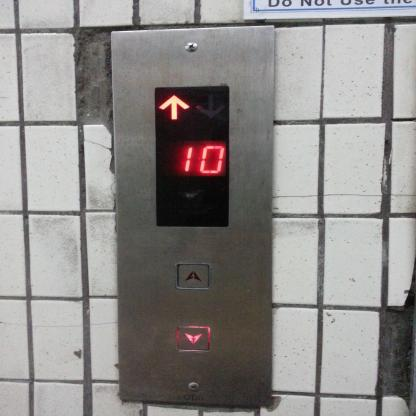down: (174, 324, 212, 354)
led: (152, 83, 232, 230)
up: (174, 262, 212, 292)
